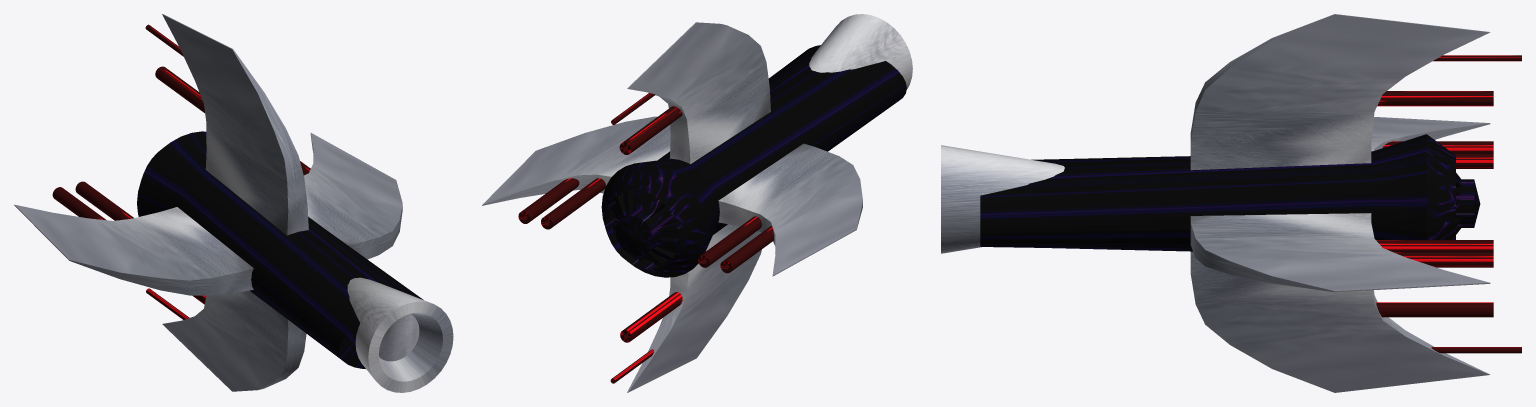
Rendered from guardian.gltf.glb.
3 renders of one model, left to right at view 1: azimuth 30°, elevation 25°; view 2: azimuth 150°, elevation 25°; view 3: azimuth 270°, elevation 25°, orthographic. The views are drawn at different scales.
Visible parts, largest first — view 1: Cube, Cube.001, Sphere, Cone.001, Cylinder.005, Cylinder, Cylinder.001; view 2: Sphere, Cube, Cube.001, Cone.001, Cylinder.004, Cylinder.005, Cylinder.007, Cylinder, Cylinder.002, Cylinder.001; view 3: Cube, Sphere, Cube.001, Cone.001, Cylinder.007, Cylinder, Cylinder.004, Cylinder.002, Cylinder.001, Cylinder.005, Cylinder.006, Cylinder.003.
Part boxes in pixels (x1,y1,x2,y2): Cube: [162, 14, 308, 391]; Cube.001: [14, 133, 402, 295]; Sphere: [137, 131, 423, 368]; Cone.001: [347, 277, 453, 392]; Cylinder.005: [75, 181, 133, 220]; Cylinder: [155, 66, 204, 112]; Cylinder.001: [52, 187, 106, 220]; Sphere: [601, 45, 906, 277]; Cube: [627, 22, 770, 392]; Cube.001: [482, 116, 862, 276]; Cone.001: [809, 14, 912, 89]; Cylinder.004: [541, 178, 605, 229]; Cylinder.005: [698, 216, 761, 267]; Cylinder.007: [620, 292, 682, 342]; Cylinder: [619, 106, 682, 154]; Cylinder.002: [518, 178, 579, 223]; Cylinder.001: [720, 226, 773, 273]; Cube: [1190, 14, 1490, 392]; Sphere: [980, 134, 1480, 251]; Cube.001: [1190, 117, 1490, 292]; Cone.001: [941, 145, 1064, 253]; Cylinder.007: [1376, 302, 1493, 317]; Cylinder: [1377, 91, 1493, 106]; Cylinder.004: [1376, 240, 1493, 252]; Cylinder.002: [1394, 252, 1493, 267]; Cylinder.001: [1382, 141, 1493, 153]; Cylinder.005: [1454, 153, 1493, 168]; Cylinder.006: [1431, 347, 1521, 353]; Cylinder.003: [1433, 55, 1521, 61].
Size of the model in its own units: 12.31 by 12.31 by 17.12.
Materials: 13 (13 with a texture image).
